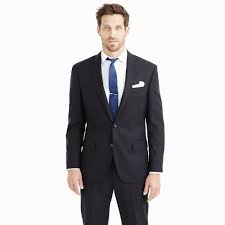F_M_suit jacket: (64, 51, 165, 184)
F_shirt: (100, 48, 130, 109)
F_tie: (108, 59, 120, 122)
